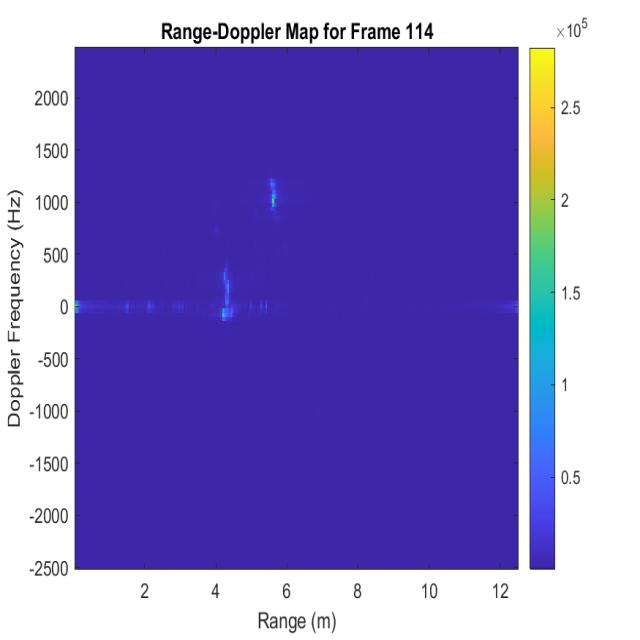target-1: (258, 152, 294, 228)
target-2: (203, 255, 280, 332)
